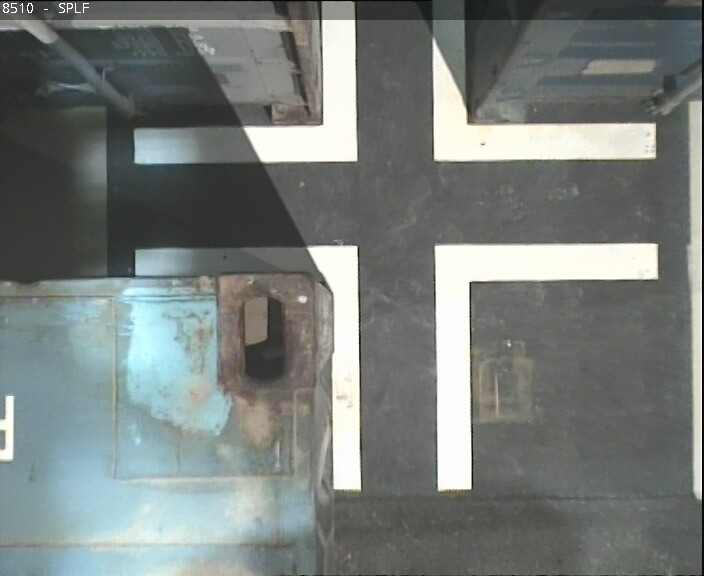groundmarker_1: (135, 241, 656, 490), (134, 1, 659, 163)
